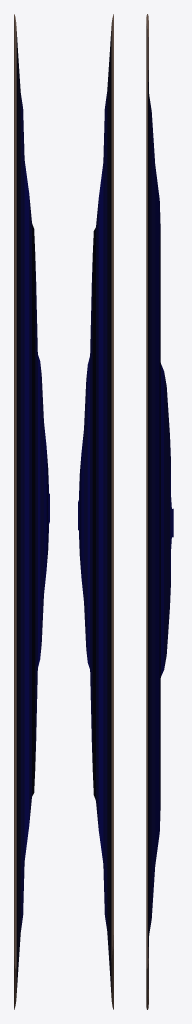
The model's file is blue_flag_222x06.gltf.
3 views of the same model, side by side, from view 1: azimuth 30°, elevation 25°; view 2: azimuth 210°, elevation 25°; view 3: azimuth 330°, elevation 25° (orthographic).
Parts seen in each view (by area): view 1: blue_flag_222x06; view 2: blue_flag_222x06; view 3: blue_flag_222x06.
Boxes of the visible parts, box(x1,y1,x2,y2) form: blue_flag_222x06: box(14, 14, 49, 1009); blue_flag_222x06: box(78, 14, 113, 1009); blue_flag_222x06: box(146, 14, 173, 1009).
Size of the model in its own units: 0.0648 by 1.97 by 0.0207.
Materials: 1 (1 with a texture image).
